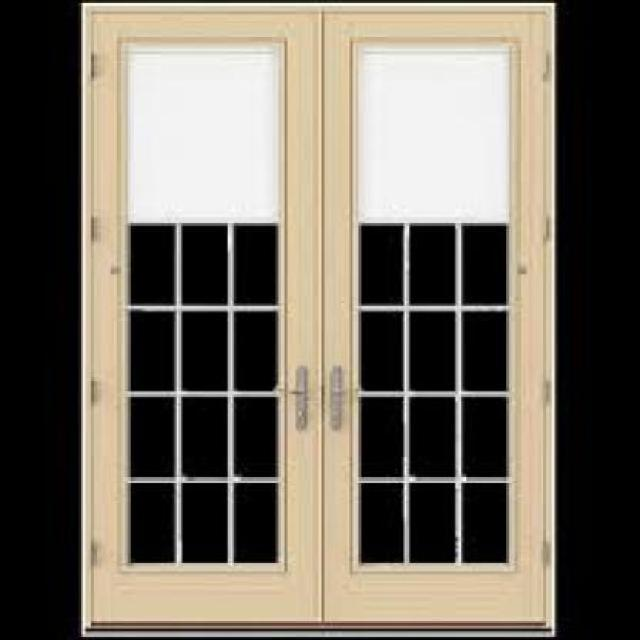door: (86, 3, 553, 640)
